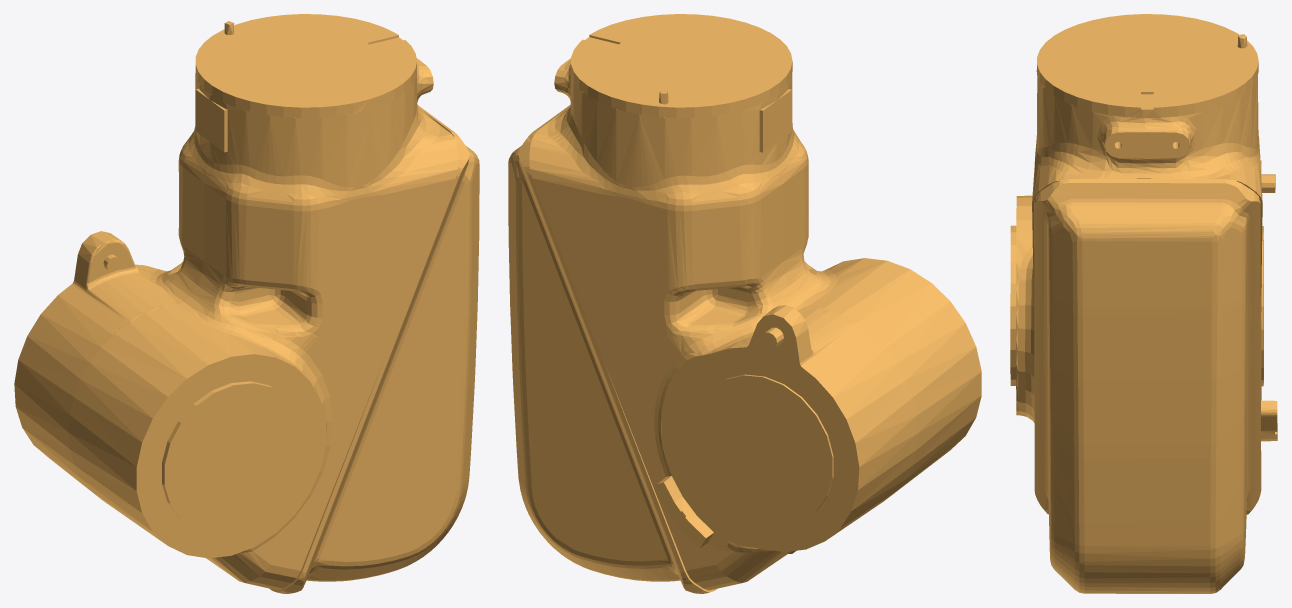
Rendered from IRB120Link3.dae.
3 views of the same model, side by side, from view 1: azimuth 30°, elevation 25°; view 2: azimuth 150°, elevation 25°; view 3: azimuth 270°, elevation 25° (orthographic).
Visible parts, largest first — view 1: IRB120Link3; view 2: IRB120Link3; view 3: IRB120Link3.
Part boxes in pixels (x1=…): IRB120Link3: x1=14, y1=14, x2=479, y2=593; IRB120Link3: x1=508, y1=14, x2=981, y2=593; IRB120Link3: x1=1010, y1=14, x2=1277, y2=593.
Size of the model in its own units: 0.1882 by 0.1155 by 0.244.
